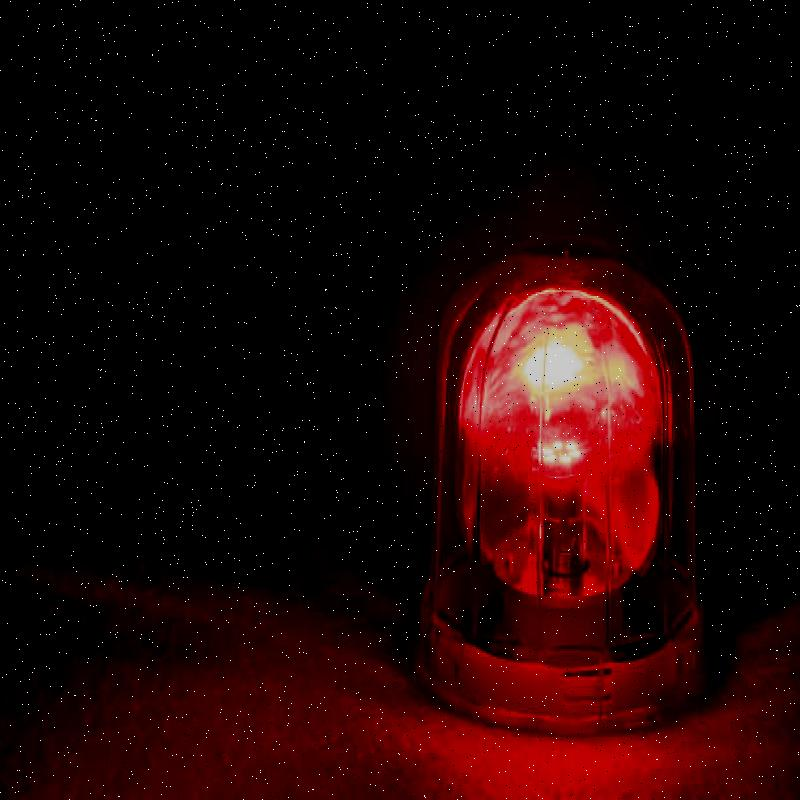AmbulanceSiren: (414, 219, 714, 759)
